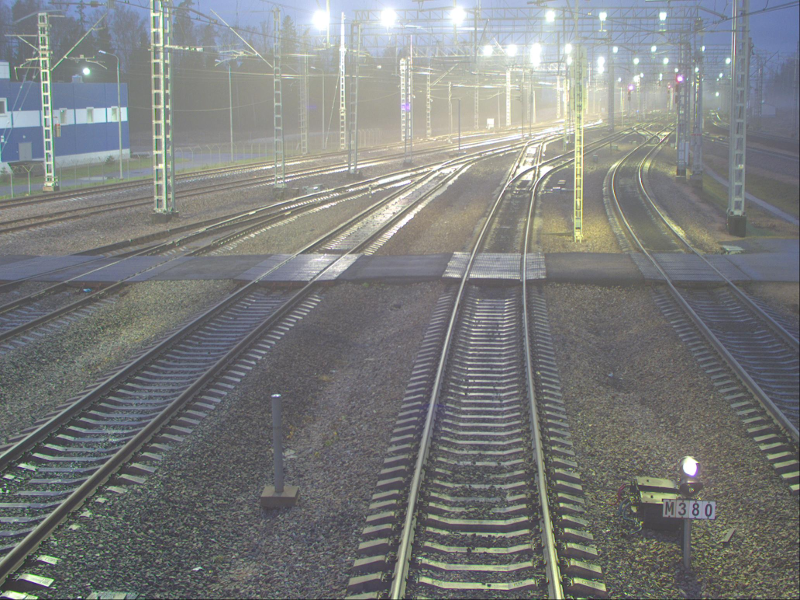right: (503, 175, 538, 193)
